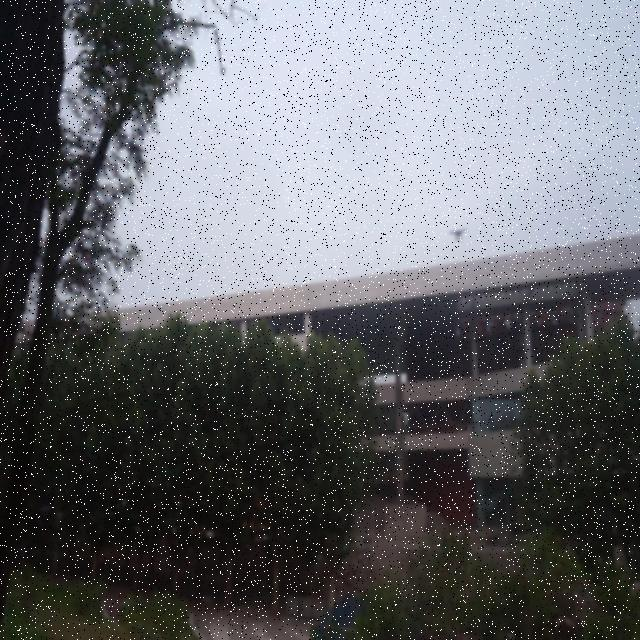UAV: (449, 229, 468, 242)
